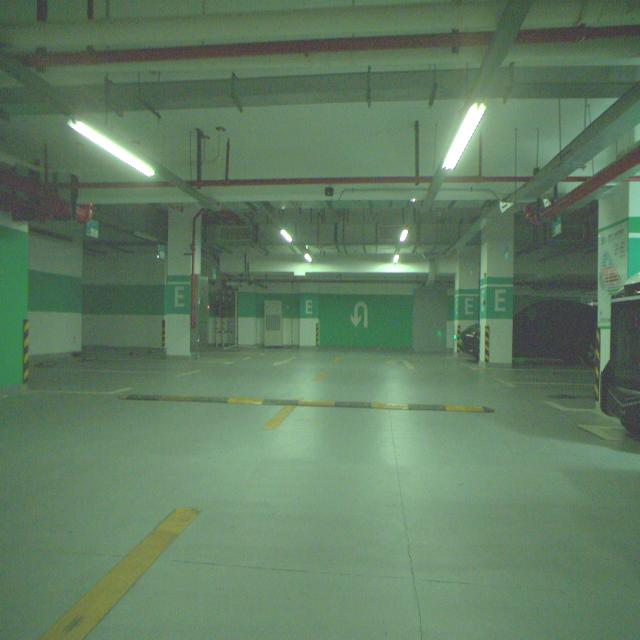pillar: (165, 205, 201, 356), (480, 212, 514, 364)
